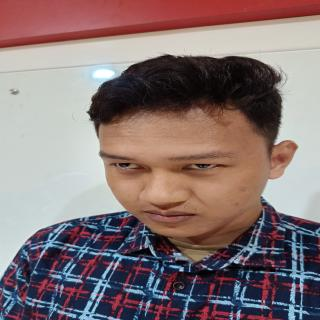Marah: (88, 104, 266, 253)
